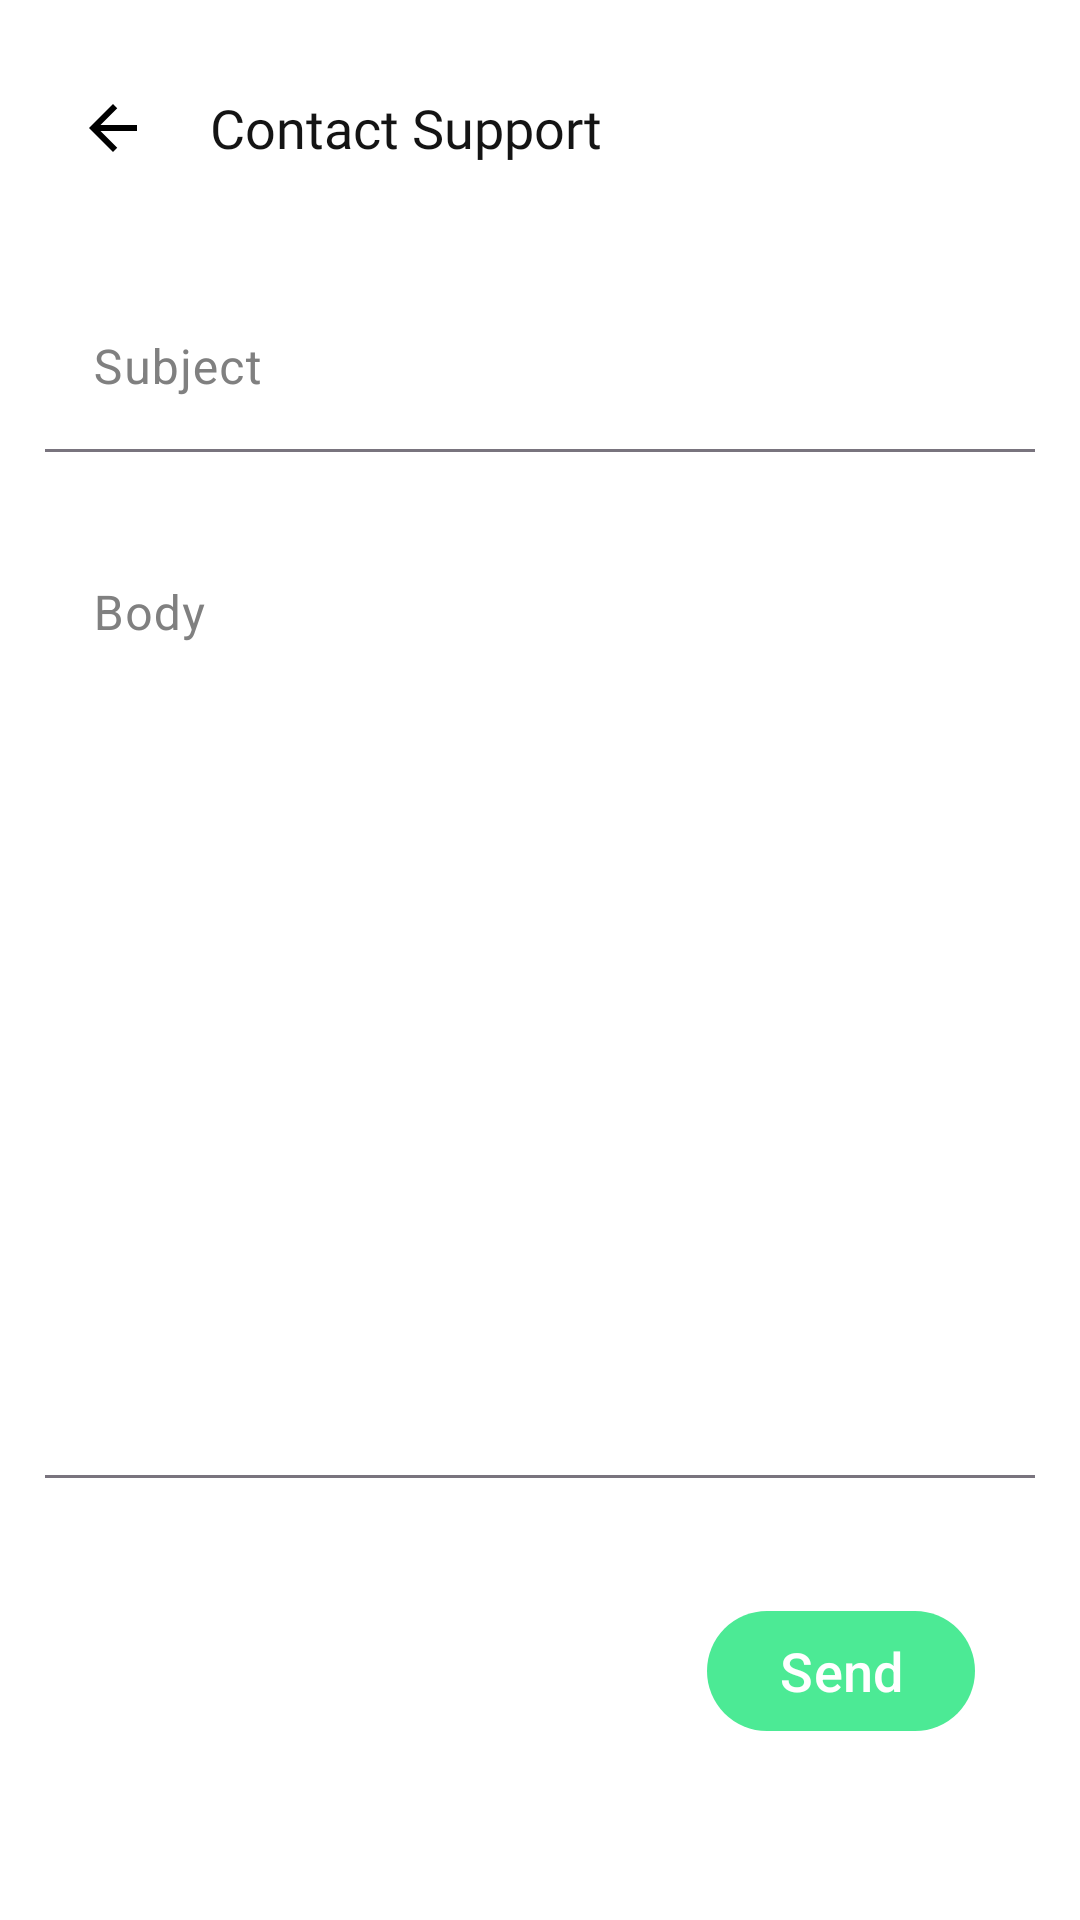

Named icons in this screenshot (1080x1920) and their centers, (x,y):
backbtn: (113,128)
